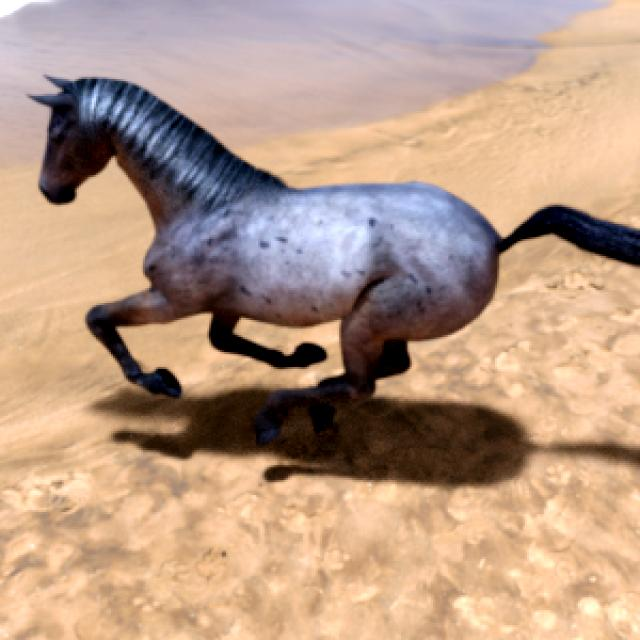horse: (34, 78, 640, 444)
